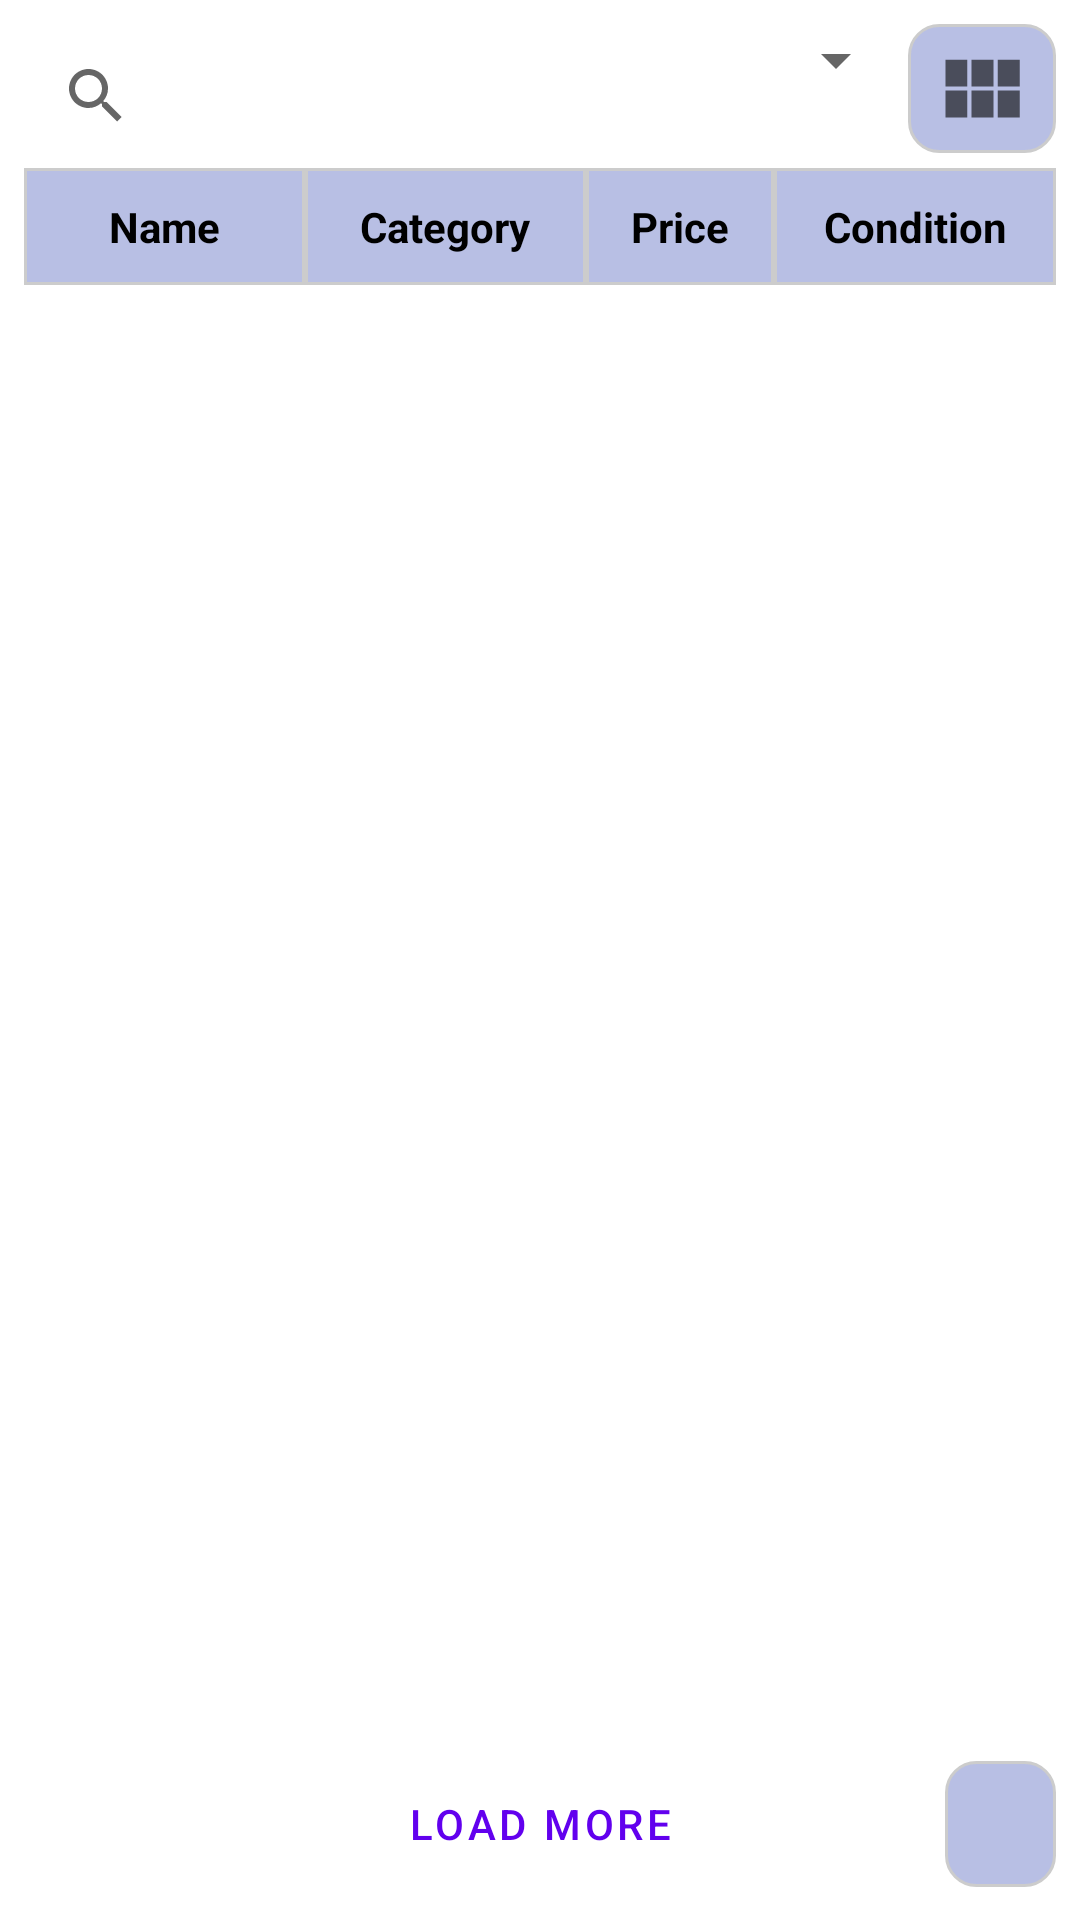

Where icons sit on this 1080×1920 app screen, as (left=x1, top=y1, right=x2, bottom=y2):
tile: (left=908, top=24, right=1056, bottom=153)
